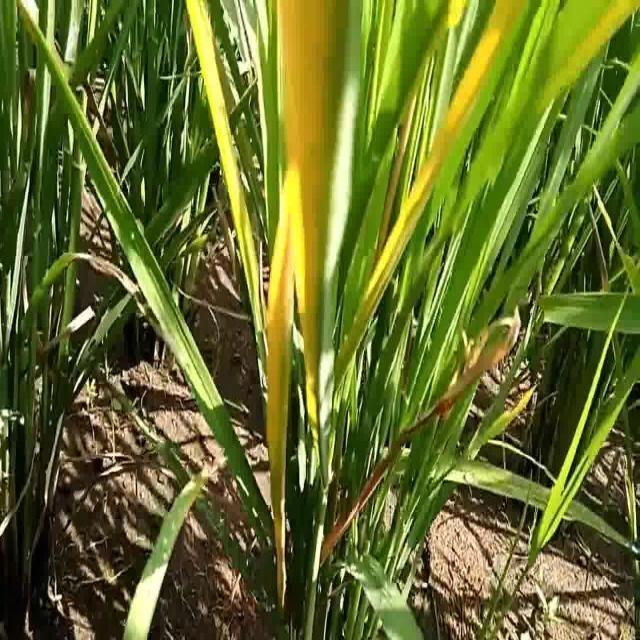Rice Tungro: (360, 4, 521, 320), (265, 1, 325, 596), (183, 3, 257, 288)
